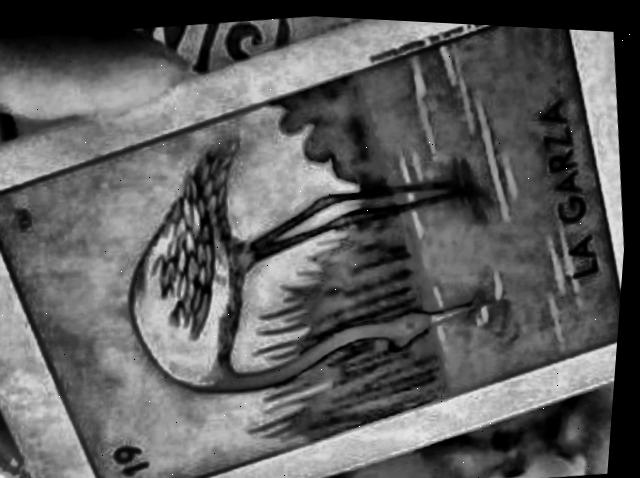El Garza: (0, 20, 623, 478)
